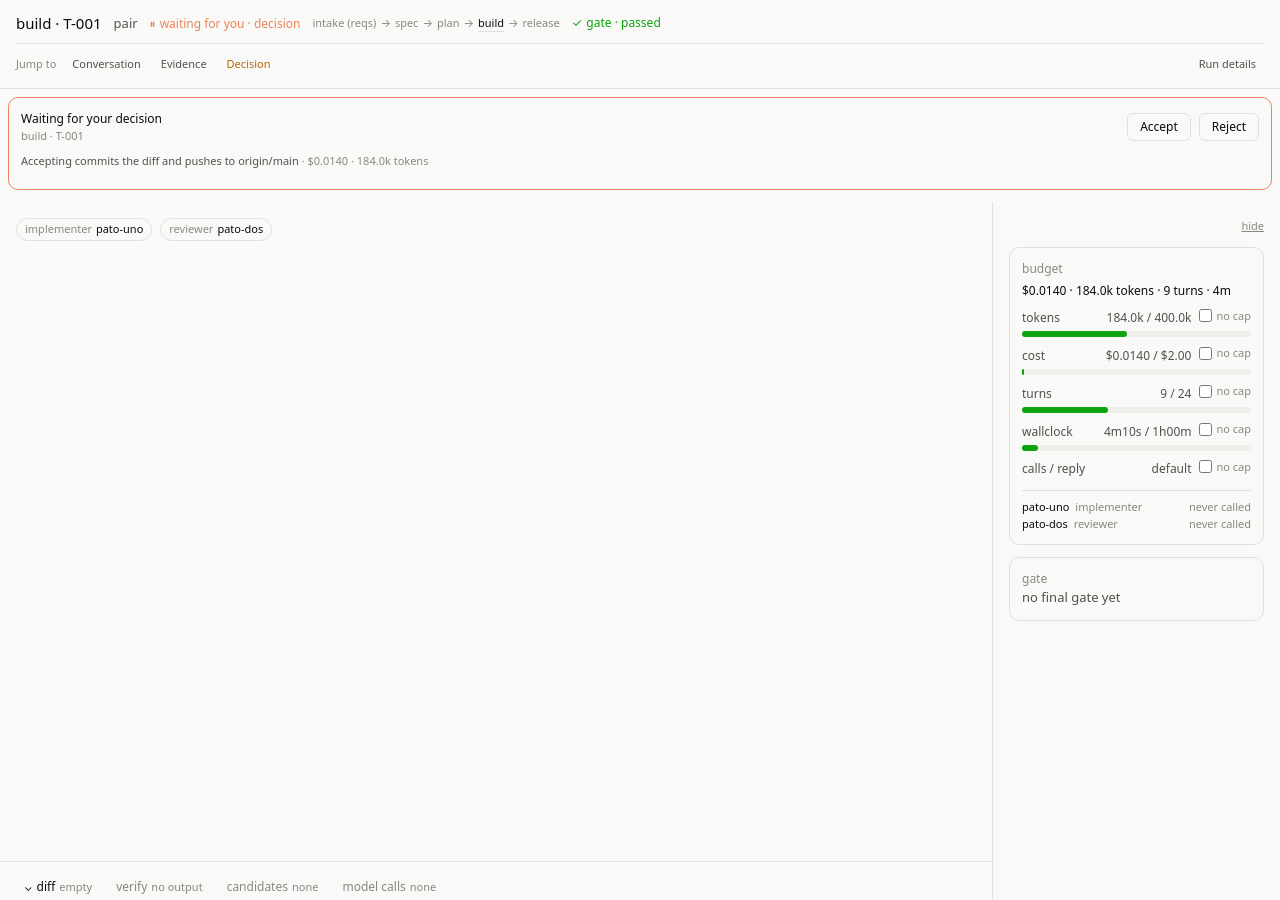
RunView › shows an error and no commit when the engine rejects the accept
Click the button with test id "cycle-accept".
click(1159, 127)  # box [1127,113,1191,141]
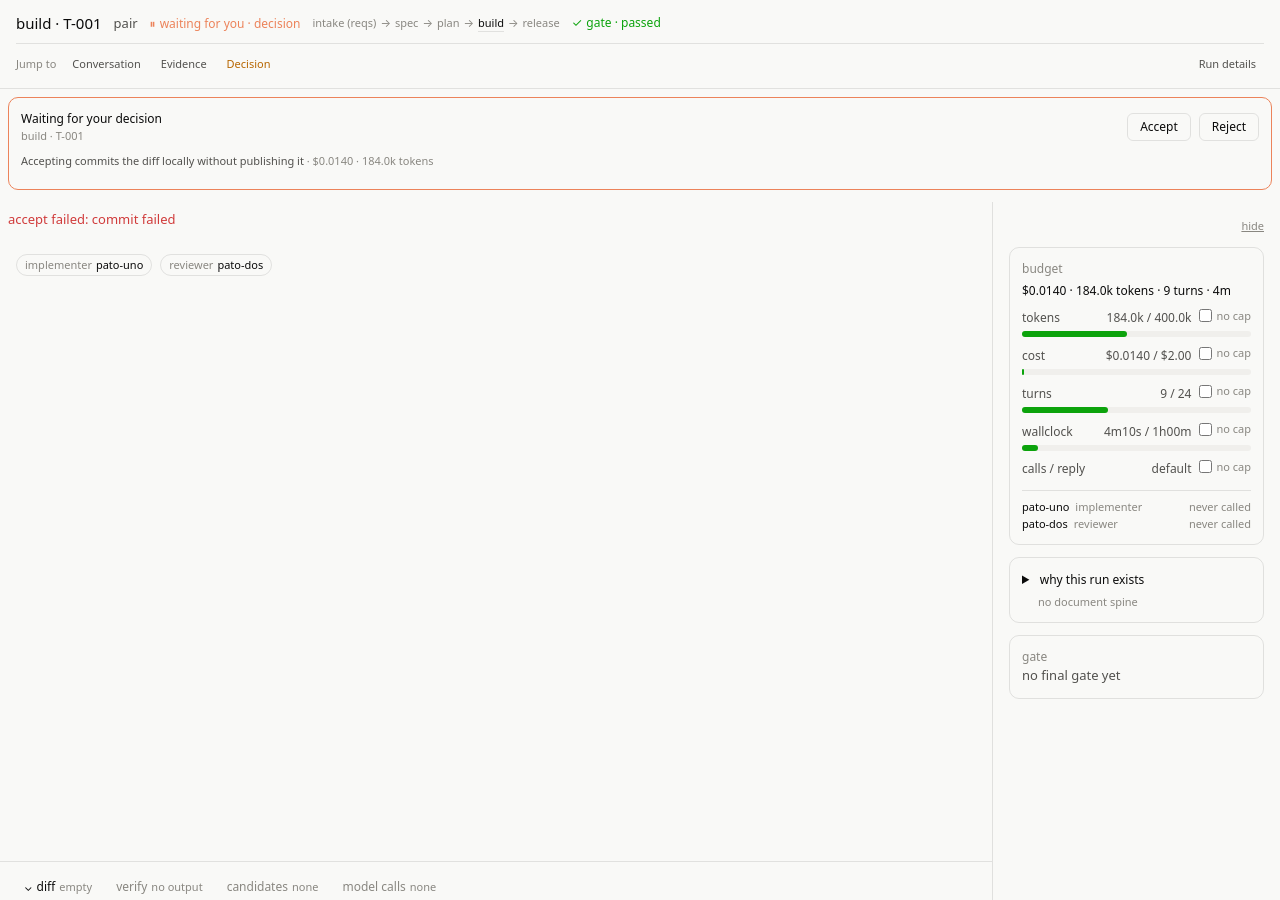
Expected: the text "accept failed: commit failed" is shown, [8,210,176,228]
